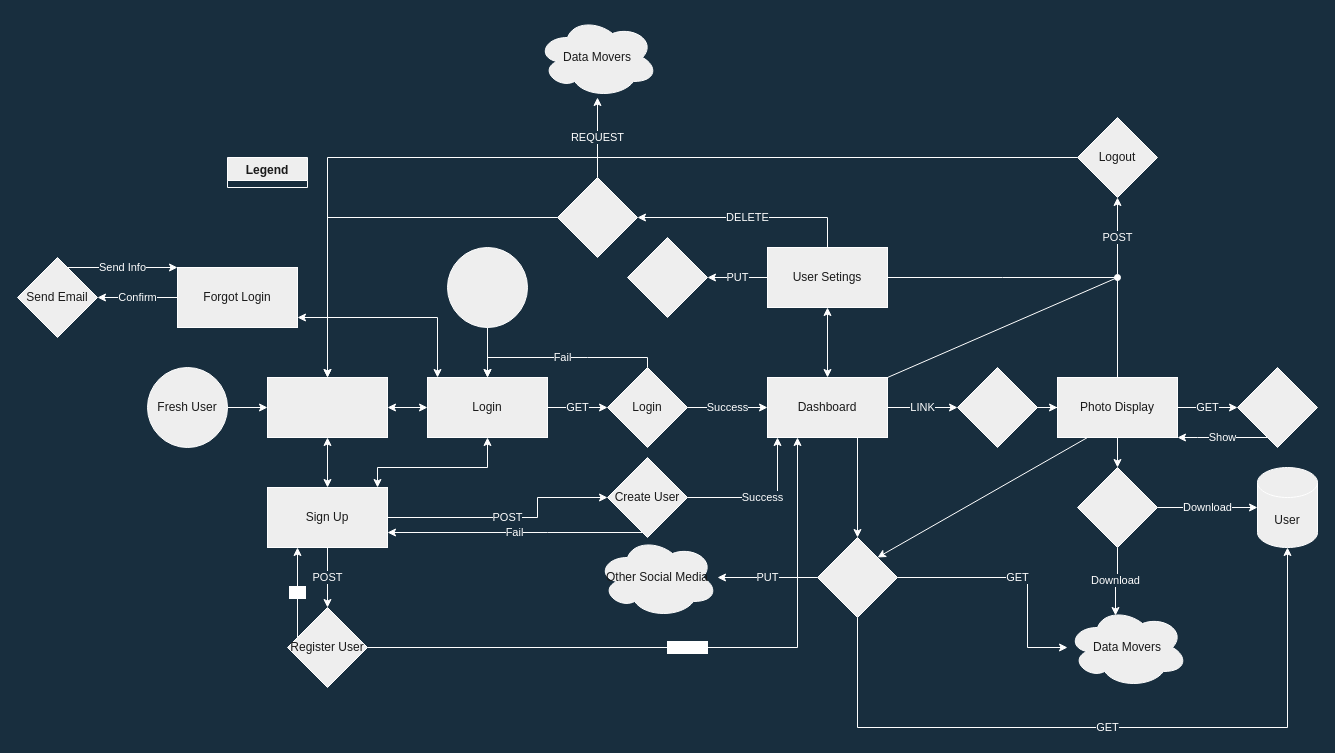
The diagram is 1335 pixels wide and 753 high, and some of its shapes have lost their labels. The shapes that lost their labels are listed below. From the top down, each one's centre as x and y in pixels, then its label:
At [597,217]: "Erase User".
At [487,287]: "Known User".
At [667,277]: "Update Settings".
At [327,407]: "Home".
At [997,407]: "Connect with Social Media".
At [1277,407]: "Photos".
At [1117,507]: "Store Photos".
At [857,577]: "Transfer Photos".
